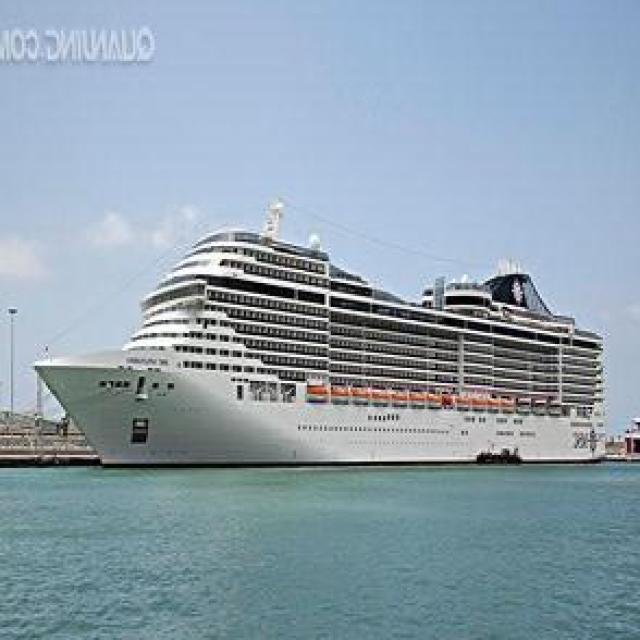passenger ship: (44, 228, 606, 465)
